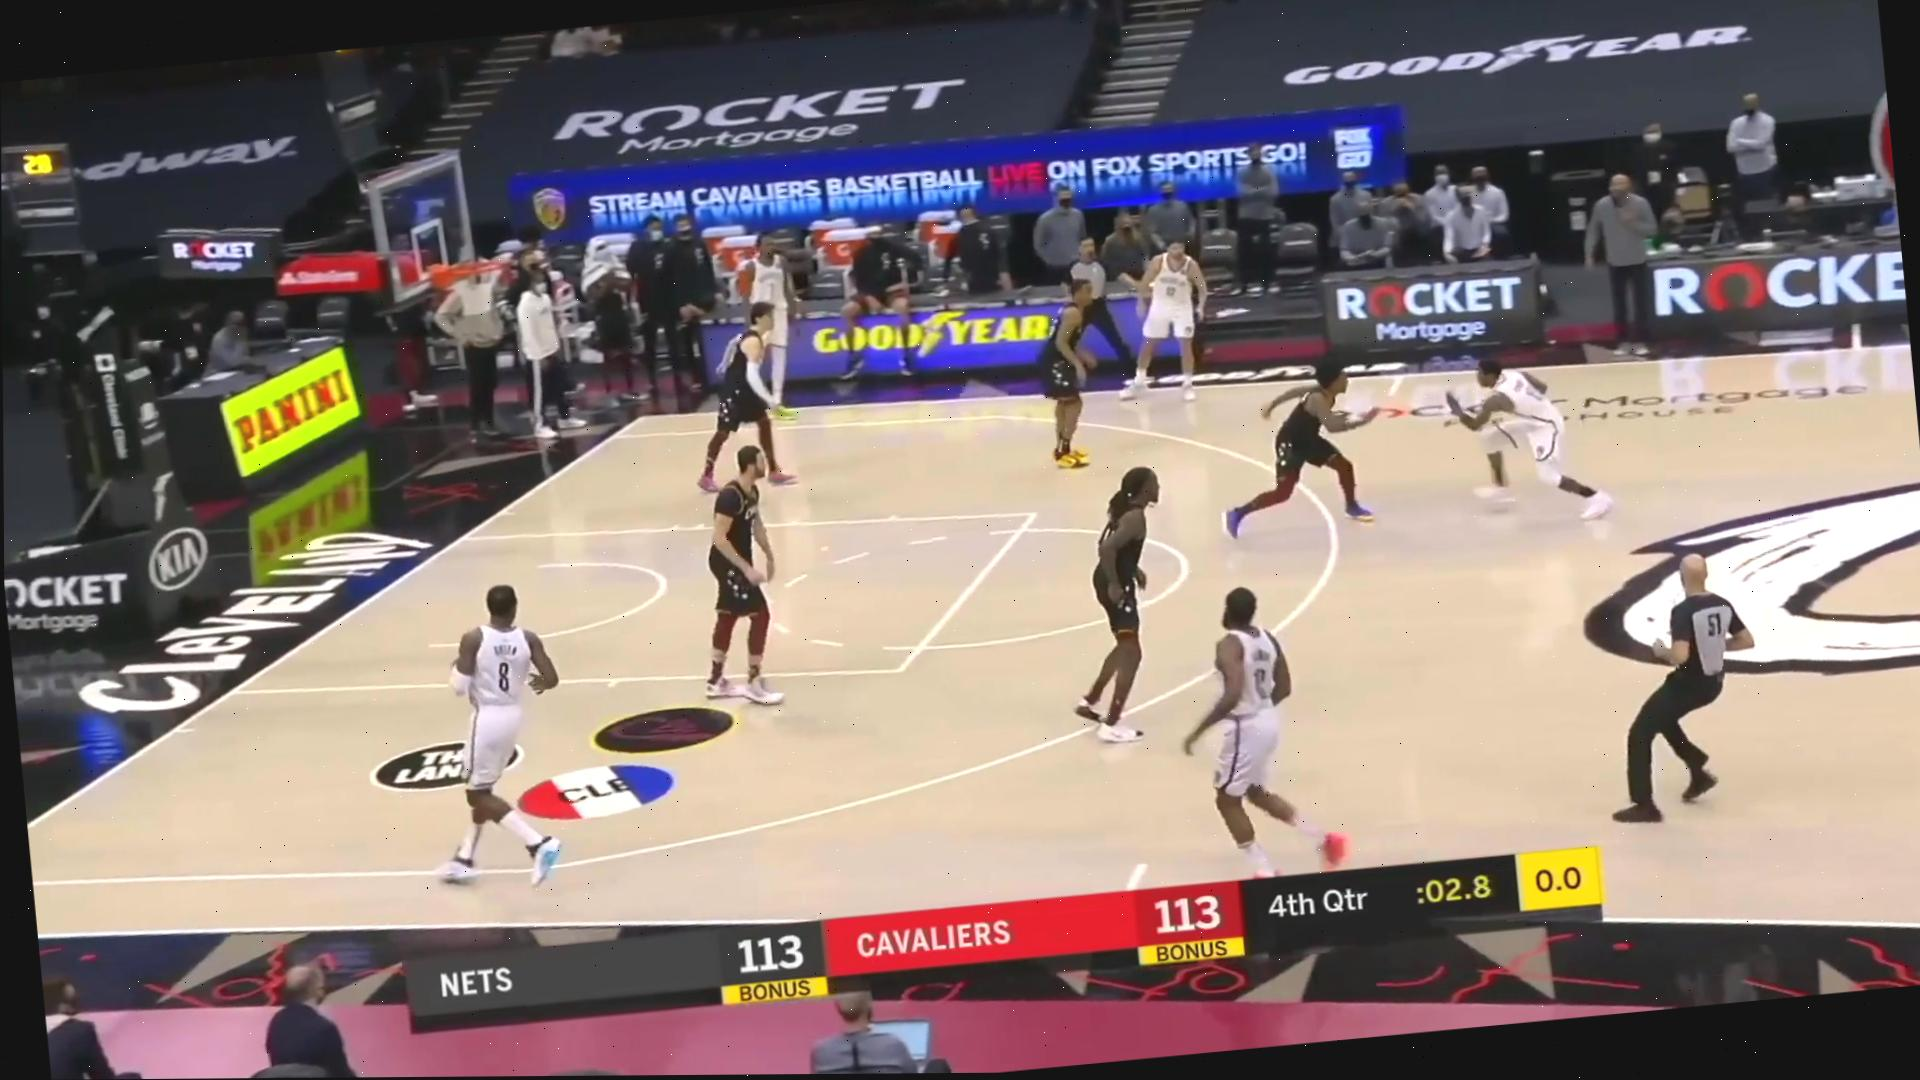no_foul: (667, 224, 847, 496)
